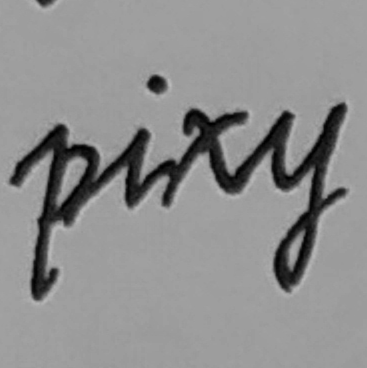i: (112, 70, 174, 215)
p: (22, 116, 107, 309)
x: (161, 102, 252, 211)
y: (258, 98, 352, 295)
